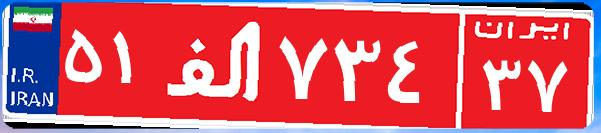1: (110, 28, 158, 105)
3: (330, 28, 385, 110), (475, 38, 525, 113)
4: (385, 28, 445, 110)
5: (57, 26, 110, 107)
7: (273, 28, 330, 110), (525, 38, 570, 115)
الف: (158, 15, 273, 115)
